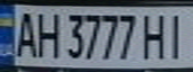3: (63, 9, 84, 60)
7: (118, 10, 142, 61), (81, 10, 103, 60), (100, 11, 121, 61)
A: (9, 8, 39, 59)
H: (139, 10, 172, 61), (33, 8, 63, 60)
I: (163, 9, 193, 60)
